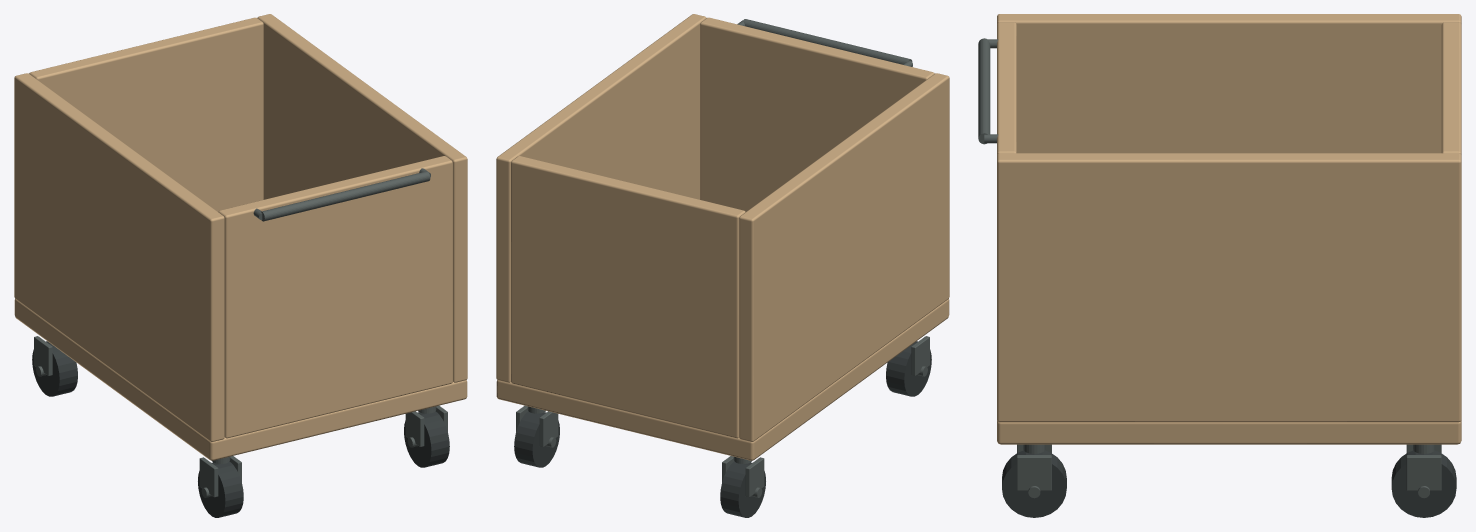
The model's file is public-library-and-reading-garden-public-library-and-r-5fa2bf0d__30907.glb.
The picture shows the model from 3 angles, left to right: view 1: azimuth 30°, elevation 25°; view 2: azimuth 150°, elevation 25°; view 3: azimuth 270°, elevation 25°; orthographic projection. The views are drawn at different scales.
Visible parts, largest first — view 1: public-library-and-reading-garden-book-return-trolley; view 2: public-library-and-reading-garden-book-return-trolley; view 3: public-library-and-reading-garden-book-return-trolley.
Boxes of the visible parts, box(x1,y1,x2,y2) form: public-library-and-reading-garden-book-return-trolley: box(14, 14, 467, 517); public-library-and-reading-garden-book-return-trolley: box(496, 14, 949, 517); public-library-and-reading-garden-book-return-trolley: box(978, 14, 1461, 517).
Bounding box in the file's own units: 0.7 × 0.812 × 0.967.
